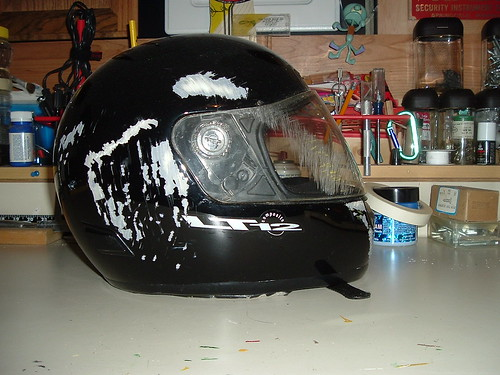helmet: (53, 25, 373, 291)
